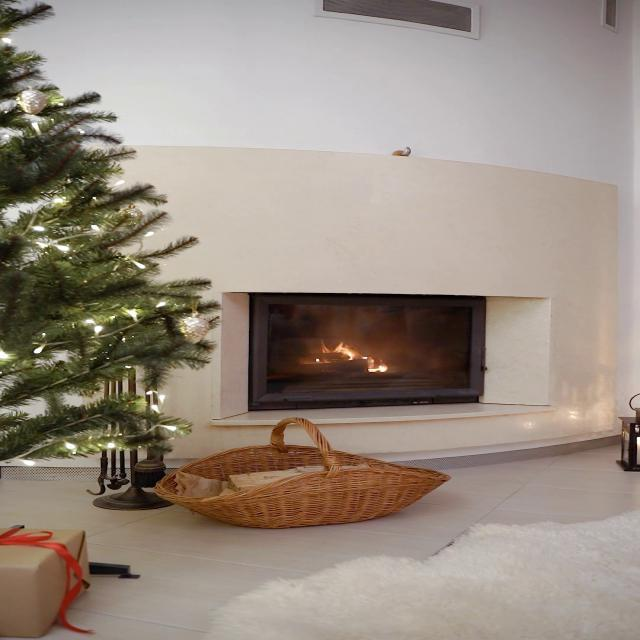Fire: (332, 334, 395, 376)
